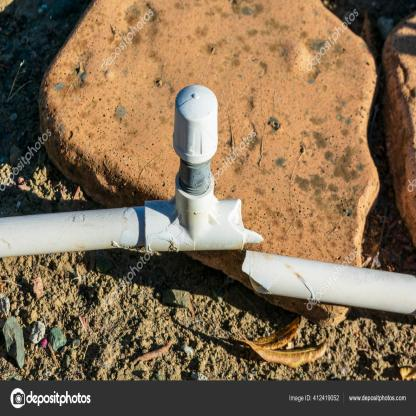PVC: (2, 83, 265, 260), (241, 250, 416, 315)
